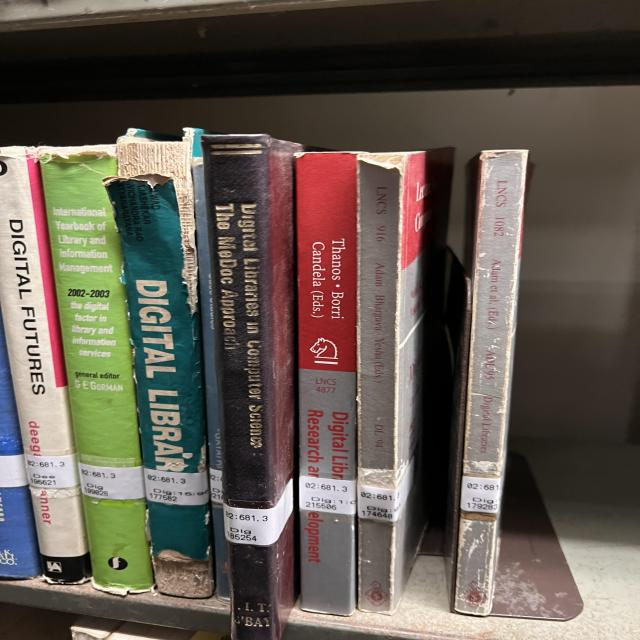Book: (38, 145, 153, 594), (105, 131, 213, 598), (203, 135, 302, 640), (357, 149, 453, 614), (0, 146, 88, 584), (450, 150, 528, 616), (297, 154, 353, 328)
Label: (223, 479, 293, 545), (357, 466, 412, 522), (78, 462, 145, 500), (143, 468, 208, 505), (300, 476, 357, 515), (25, 454, 80, 489), (460, 476, 502, 514)
